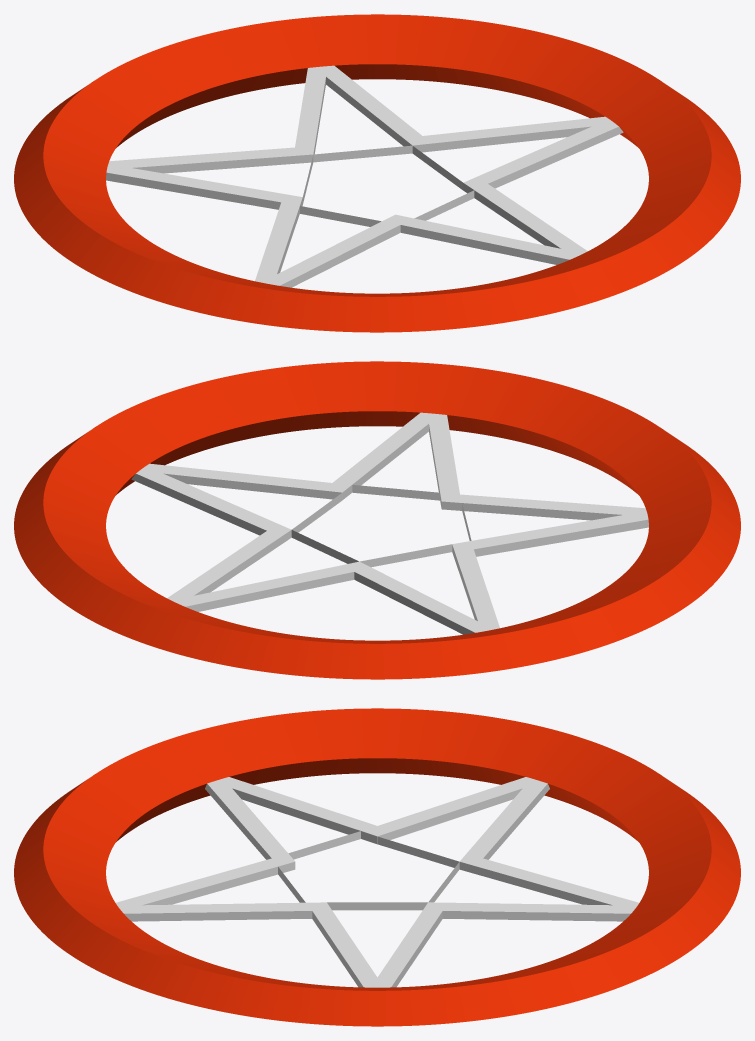
The model's file is Pentagram.fbx.
The picture shows the model from 3 angles, top to bottom: view 1: azimuth 30°, elevation 25°; view 2: azimuth 150°, elevation 25°; view 3: azimuth 270°, elevation 25°; orthographic projection.
Visible parts, largest first — view 1: Torus; view 2: Torus; view 3: Torus.
Boxes of the visible parts, x1,y1,x2,y2 form: Torus: (14,14,740,332); Torus: (14,361,740,679); Torus: (14,708,740,1026).
Size of the model in its own units: 250 by 250 by 17.63.
